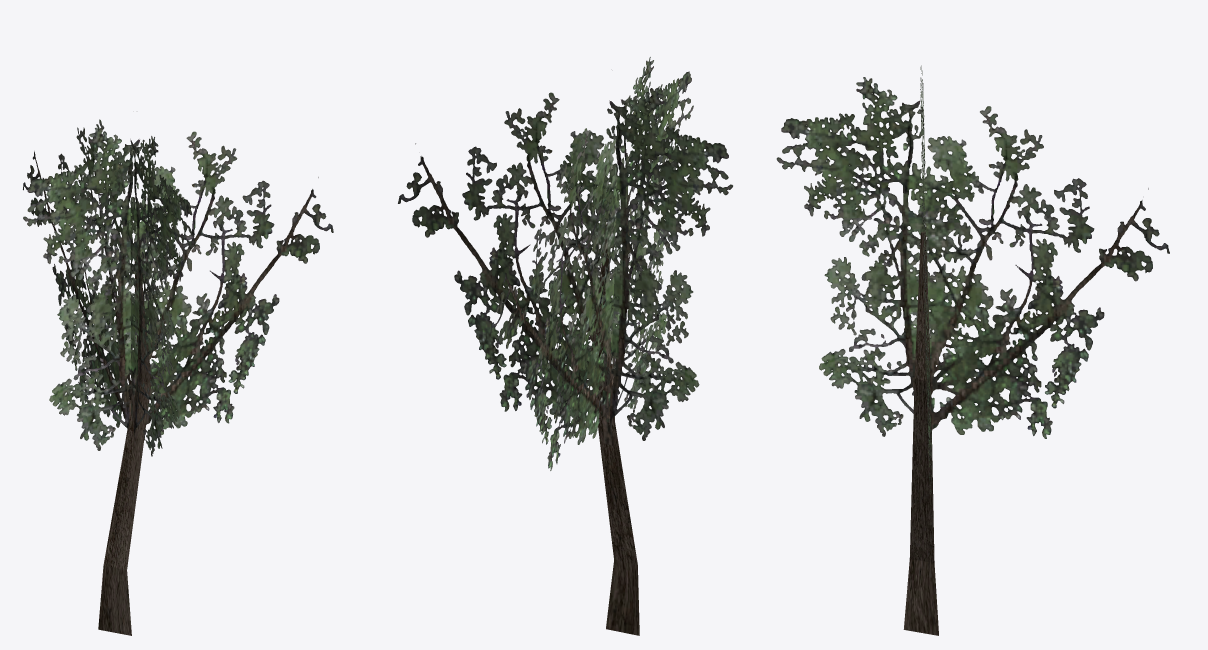
The model's file is mtns_shrb_greenleaf_l2.fbx.
3 renders of one model, left to right at view 1: azimuth 30°, elevation 25°; view 2: azimuth 150°, elevation 25°; view 3: azimuth 270°, elevation 25°, orthographic. The views are drawn at different scales.
Parts seen in each view (by area): view 1: mesh_node; view 2: mesh_node; view 3: mesh_node.
Boxes of the visible parts, box(x1,y1,x2,y2) form: mesh_node: box(23, 119, 333, 635); mesh_node: box(398, 57, 732, 635); mesh_node: box(776, 65, 1169, 635).
Size of the model in its own units: 1.29 by 1.95 by 1.32.
